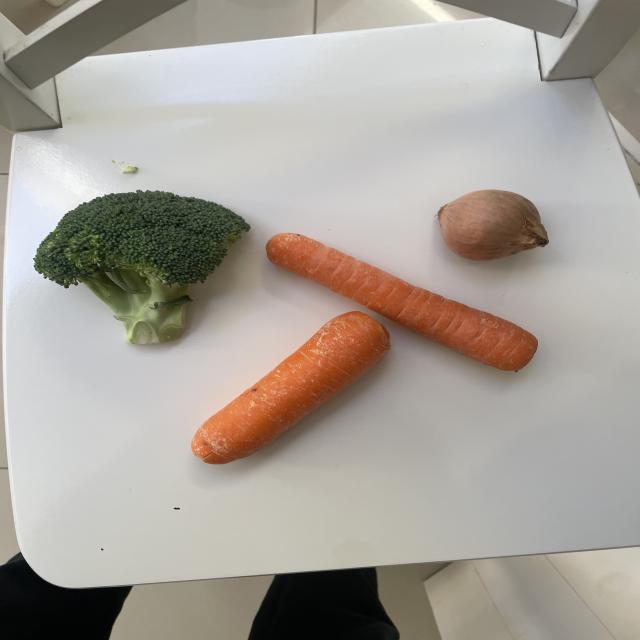Broccoli: (33, 187, 253, 348)
Carrot: (262, 231, 540, 373), (190, 309, 393, 466)
Onion: (434, 187, 552, 263)
